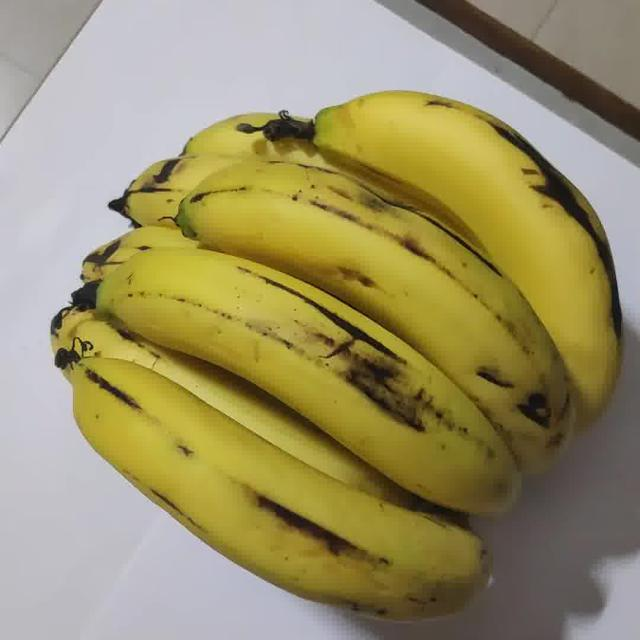banana_pacche: (54, 33, 640, 639)
